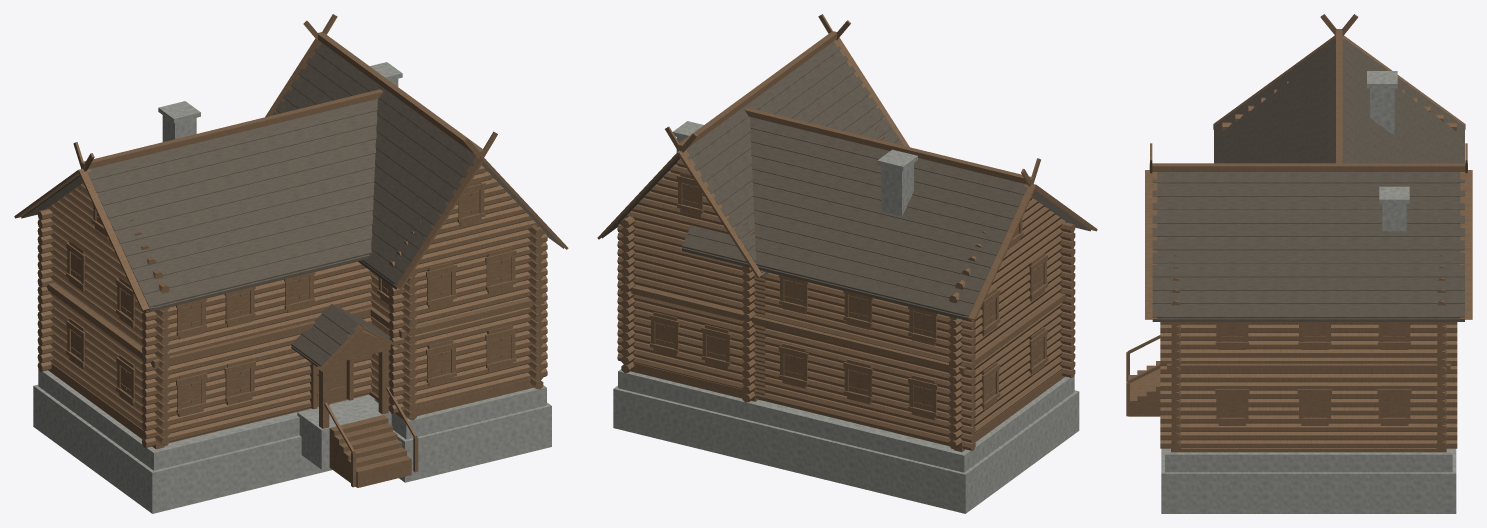
3 views of the same model, side by side, from view 1: azimuth 30°, elevation 25°; view 2: azimuth 150°, elevation 25°; view 3: azimuth 270°, elevation 25° (orthographic). The views are drawn at different scales.
Visible parts, largest first — view 1: T3_roof, T3_gable, T3_foundation, T3_shell, T3_frame, T3_shutter, T3_entry_step, T3_porch.001, T3_chimney, T3_railing, T3_entry_leaf0, T3_floor; view 2: T3_roof, T3_foundation, T3_gable, T3_shell, T3_frame, T3_shutter, T3_chimney, T3_floor; view 3: T3_roof, T3_shell, T3_foundation, T3_frame, T3_gable, T3_shutter, T3_chimney, T3_entry_step, T3_floor, T3_railing.
Part boxes in pixels (<box>): T3_roof: <box>21,43,563,366</box>; T3_gable: <box>47,165,547,445</box>; T3_foundation: <box>33,370,551,513</box>; T3_shell: <box>37,209,543,449</box>; T3_frame: <box>14,14,568,417</box>; T3_shutter: <box>71,190,510,407</box>; T3_entry_step: <box>329,415,411,487</box>; T3_porch.001: <box>317,324,406,428</box>; T3_chimney: <box>158,62,402,141</box>; T3_railing: <box>324,387,418,487</box>; T3_entry_leaf0: <box>317,360,346,405</box>; T3_floor: <box>50,369,400,446</box>; T3_roof: <box>602,42,1090,320</box>; T3_foundation: <box>613,369,1079,513</box>; T3_gable: <box>617,117,1066,448</box>; T3_shell: <box>621,216,1075,451</box>; T3_frame: <box>597,14,1097,420</box>; T3_shutter: <box>655,182,1043,411</box>; T3_chimney: <box>673,121,917,216</box>; T3_floor: <box>758,375,1063,445</box>; T3_roof: <box>1152,38,1464,321</box>; T3_shell: <box>1160,322,1457,452</box>; T3_foundation: <box>1161,448,1456,513</box>; T3_frame: <box>1145,14,1472,425</box>; T3_gable: <box>1171,81,1456,450</box>; T3_shutter: <box>1220,322,1405,417</box>; T3_chimney: <box>1367,71,1409,231</box>; T3_entry_step: <box>1128,361,1160,416</box>; T3_floor: <box>1177,448,1440,452</box>; T3_railing: <box>1126,335,1160,416</box>.
Size of the model in its own units: 14.48 by 11.82 by 11.31.
4 materials, 3 textured.
